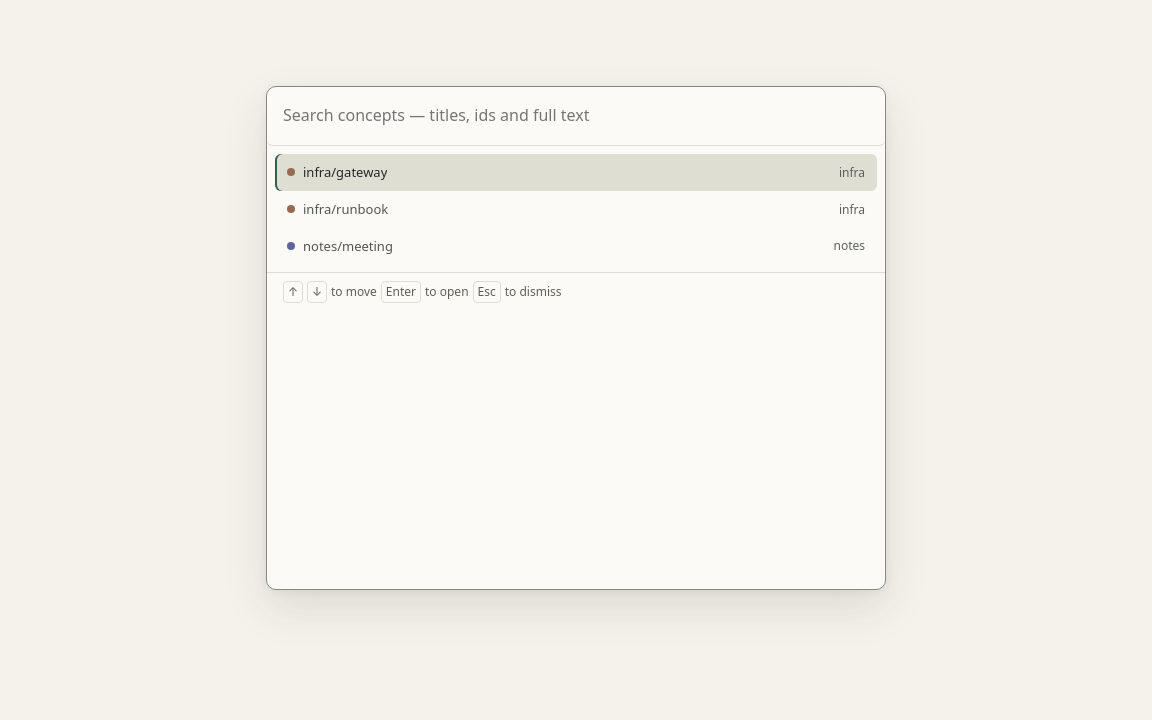
Test case: command palette › says so when nothing matches instead of showing an empty box
Type "zzz" into the field labelled "Search concepts — titles, ids and full text". click: (576, 117)
box: [267,87,885,146]
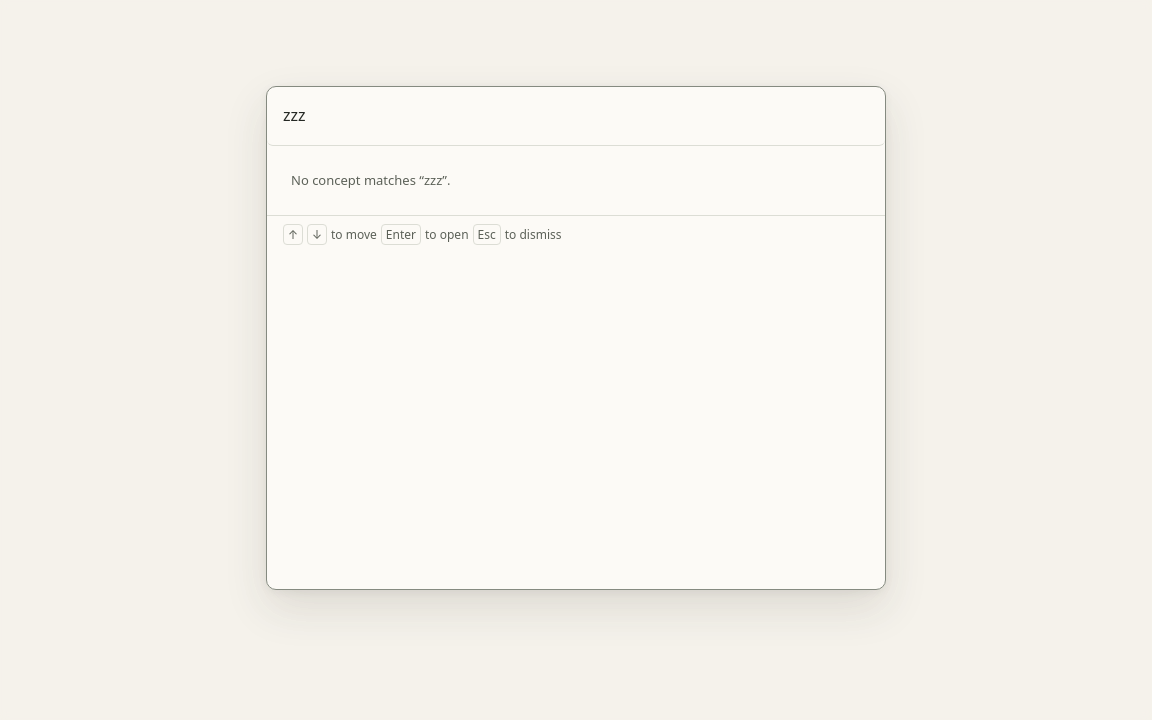
Expected: the list item "No concept matches “zzz”." is shown, [291,171,450,189]
